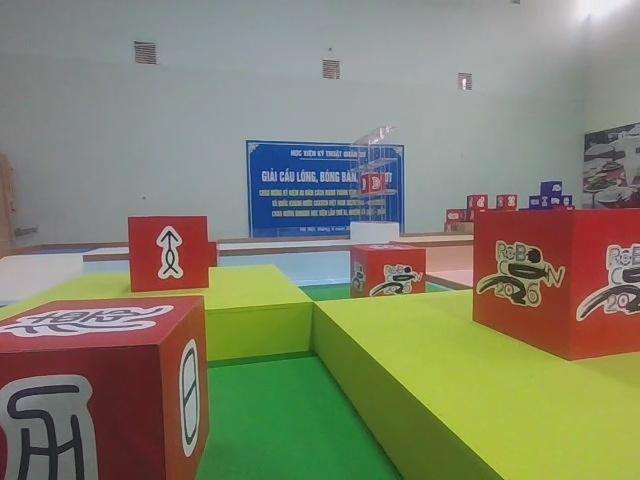R1: (468, 203, 640, 366), (346, 239, 430, 308)
R2 Fake: (0, 291, 213, 480)
R2 Real: (125, 213, 212, 295)
